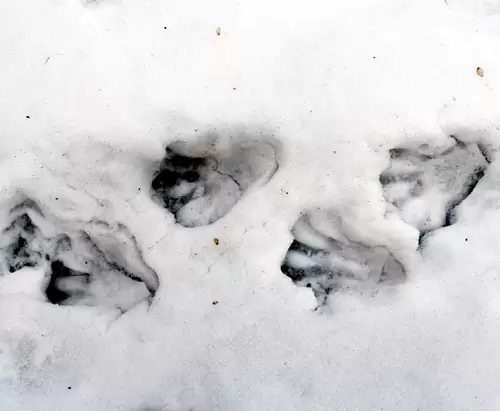beaver: (276, 209, 416, 314), (150, 132, 286, 234), (376, 137, 496, 243), (42, 225, 160, 325)
